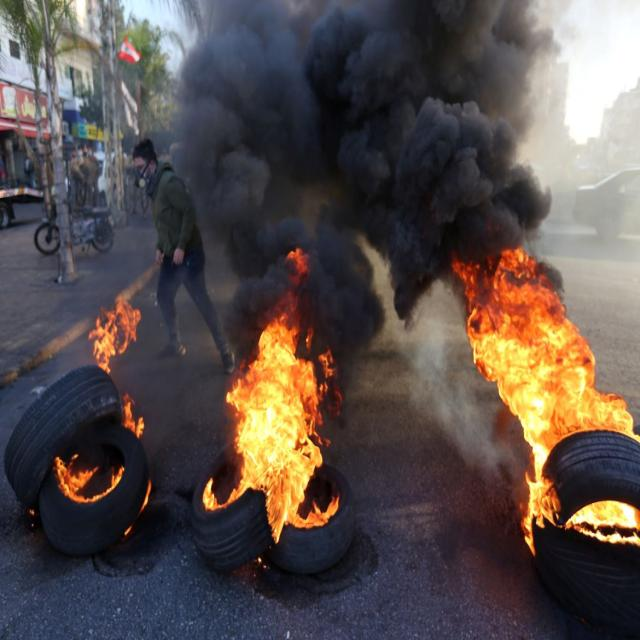fire: (452, 248, 640, 556), (203, 249, 340, 543), (89, 295, 142, 373), (55, 454, 126, 505)
